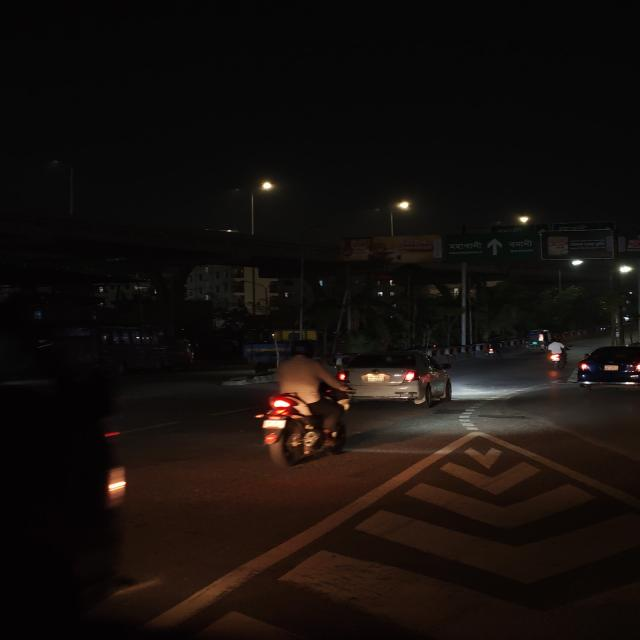car: (334, 348, 454, 408), (574, 341, 640, 394)
cng: (523, 329, 549, 351)
motorcycle: (246, 342, 356, 471), (543, 338, 569, 369)
